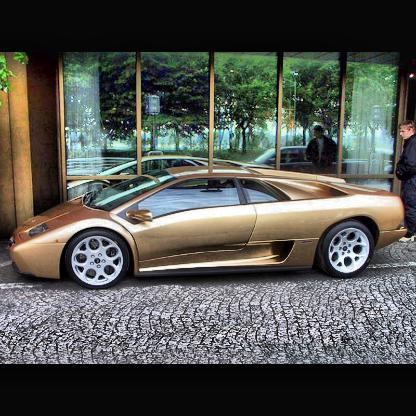Lamborghini Diablo Coupe 2001: (7, 133, 415, 295)
